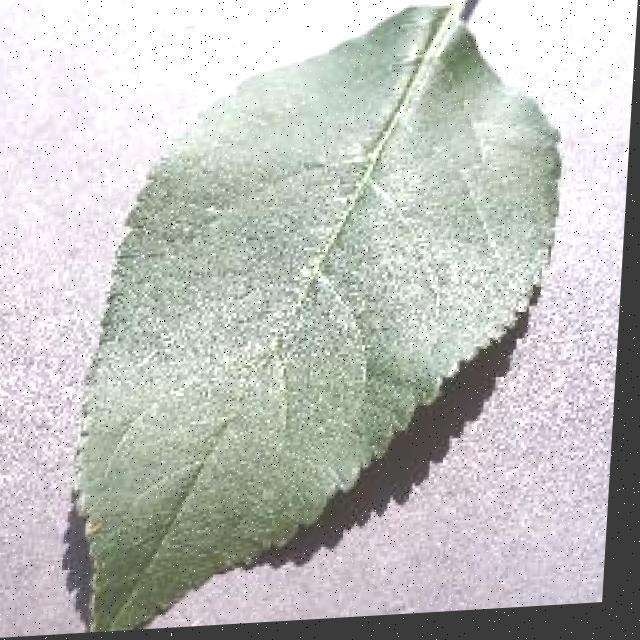healthy: (45, 1, 577, 635)
